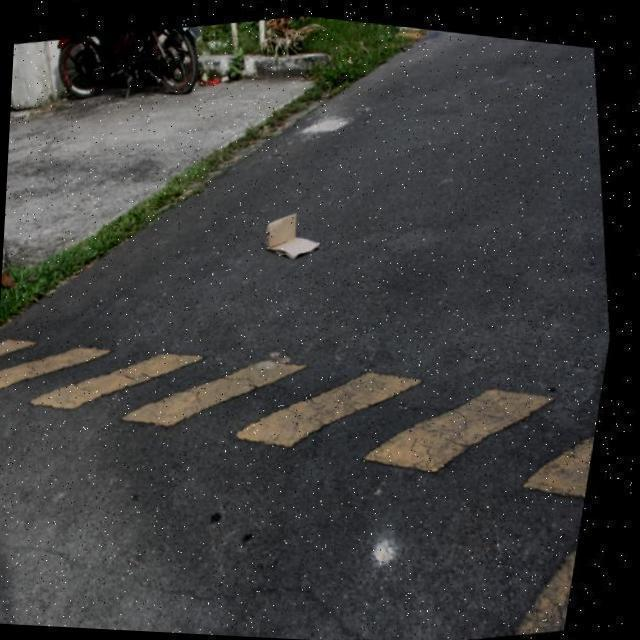Paper_Bag: (262, 201, 332, 264)
